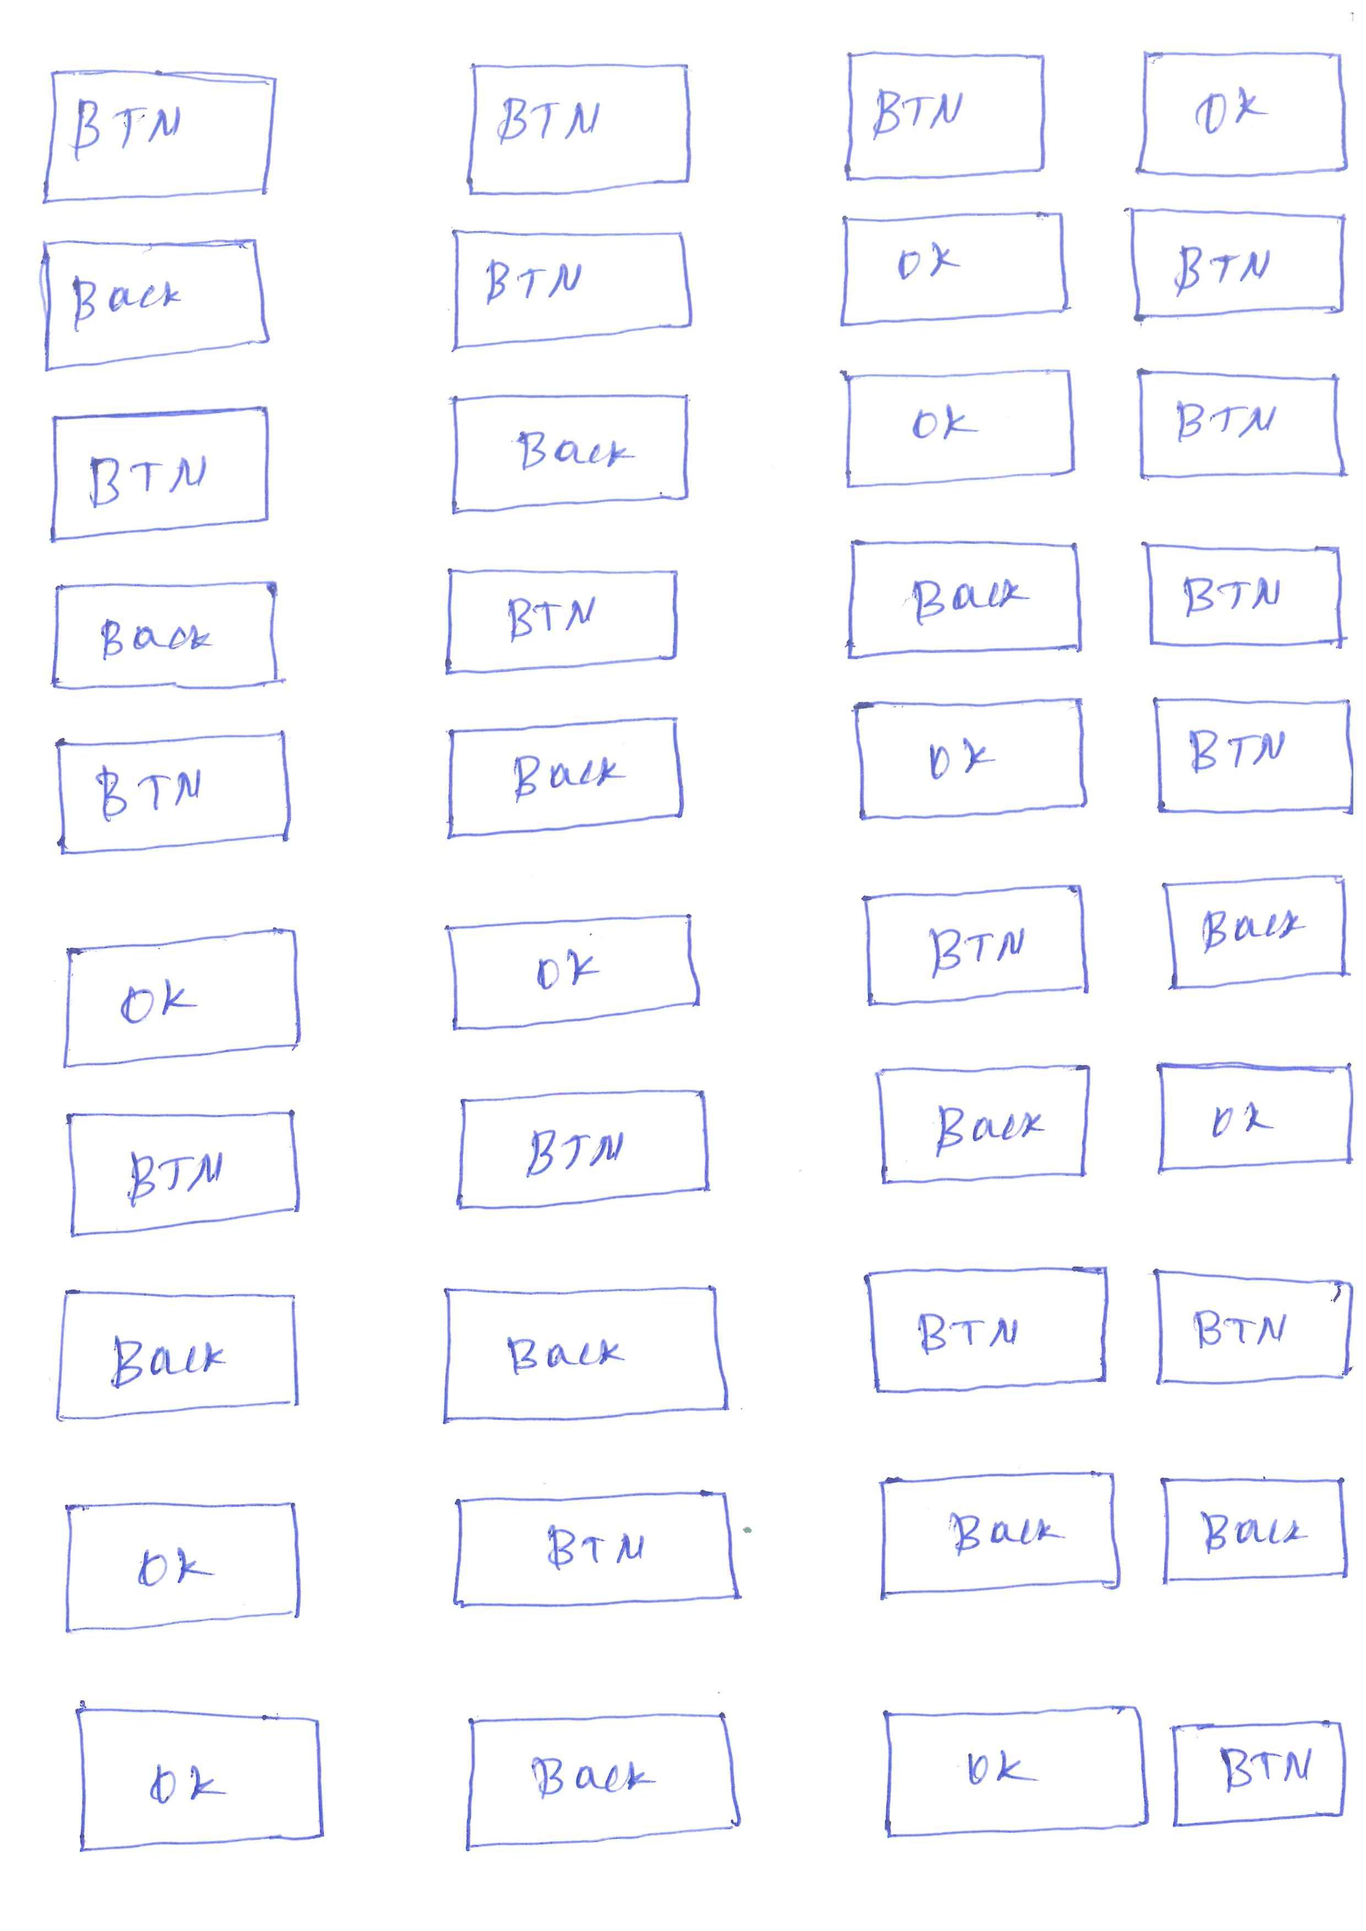Button: (458, 1706, 736, 1856), (442, 1282, 727, 1422), (74, 1703, 327, 1859), (880, 1703, 1153, 1841), (56, 923, 302, 1073), (451, 1487, 745, 1612), (448, 1082, 713, 1217), (33, 62, 279, 206), (56, 1496, 302, 1638), (874, 1465, 1127, 1603), (442, 909, 710, 1035), (53, 1288, 303, 1422), (65, 1103, 309, 1241), (448, 223, 698, 356), (50, 726, 293, 862), (840, 532, 1087, 665), (47, 401, 271, 547), (38, 232, 271, 373), (445, 387, 695, 517), (865, 1263, 1112, 1394), (469, 59, 695, 200), (852, 693, 1093, 824), (843, 362, 1081, 494), (442, 716, 686, 841), (835, 206, 1070, 333), (1132, 44, 1353, 179), (862, 886, 1093, 1011), (47, 574, 276, 696), (840, 50, 1051, 182), (877, 1060, 1093, 1189), (1124, 203, 1348, 325), (439, 565, 680, 679), (1153, 693, 1359, 821), (1132, 365, 1345, 485), (1138, 538, 1353, 654), (1153, 1266, 1353, 1388), (1162, 869, 1353, 994), (1156, 1470, 1351, 1591), (1156, 1059, 1359, 1172), (1171, 1715, 1351, 1832)
